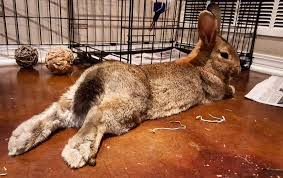bunny: (6, 9, 250, 169)
